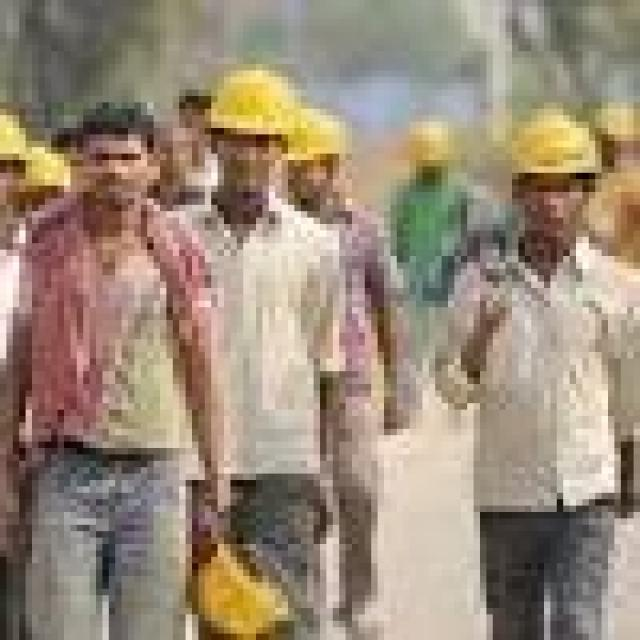safety_helmet: (191, 57, 326, 160), (499, 96, 614, 192), (274, 96, 370, 185), (0, 96, 45, 185)
